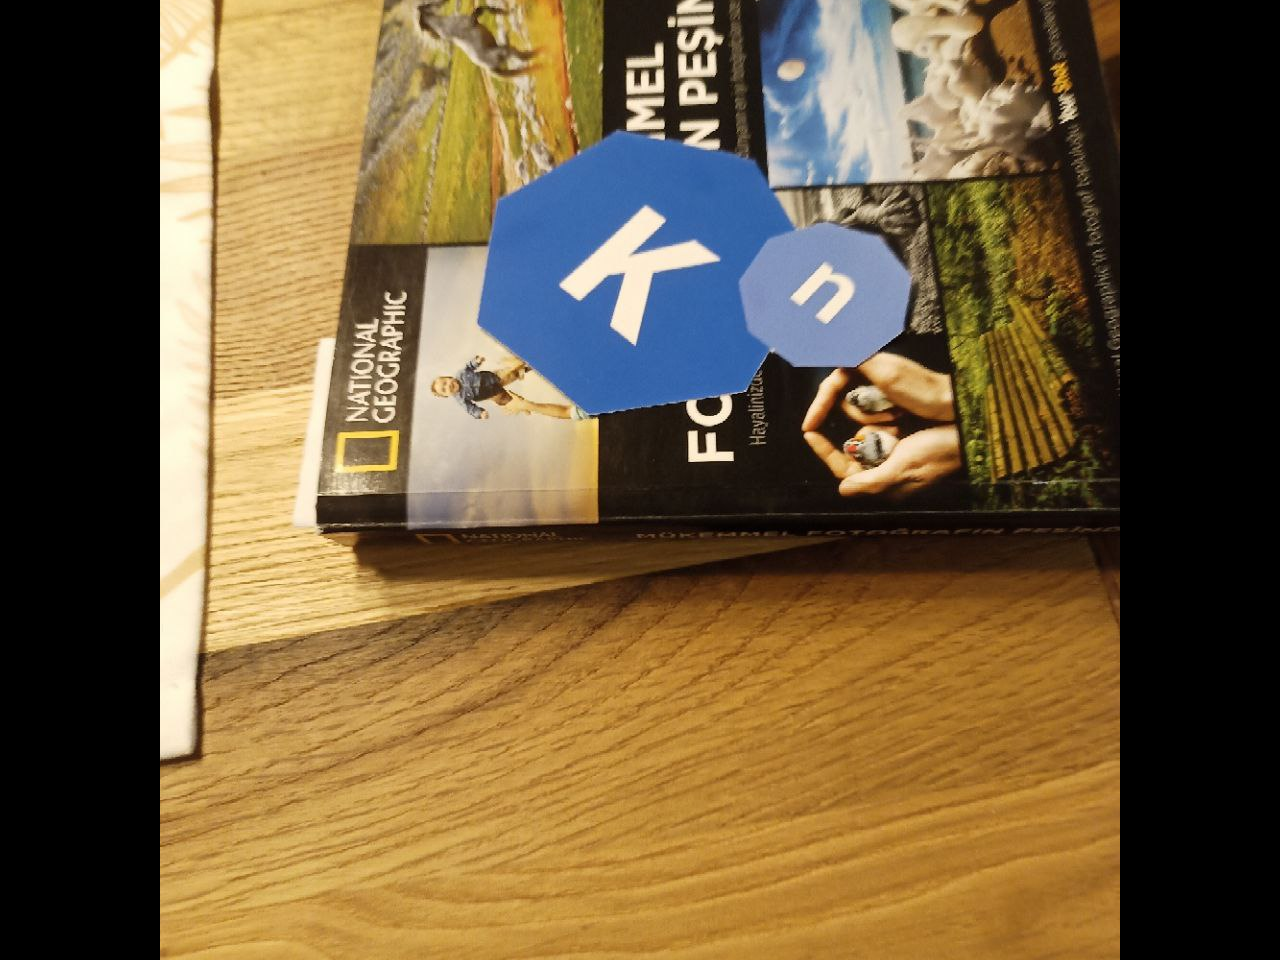knative: (474, 126, 910, 415)
